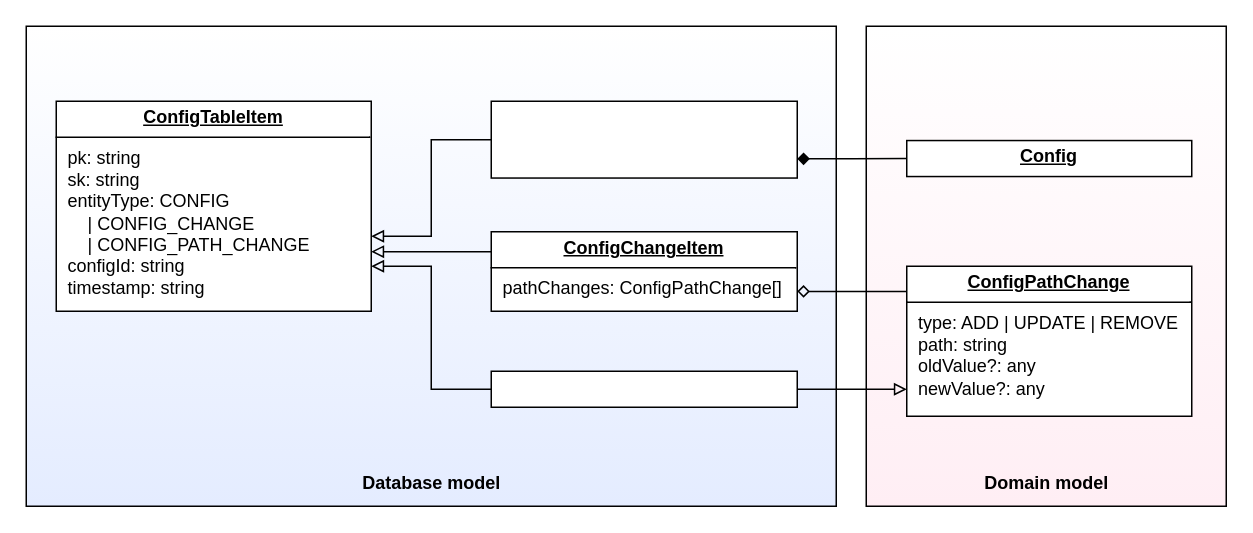
This 1253x533 diagram has some shape labels left out. Each missing label, with the box of its shape:
ConfigItem config: Config: (490, 100, 797, 178)
ConfigPathChangeItem: (490, 370, 797, 407)
